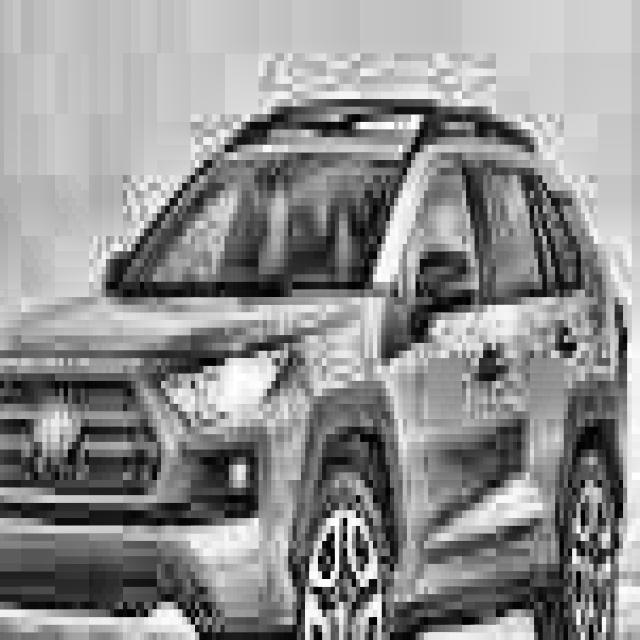light_vehicle: (0, 99, 632, 640)
